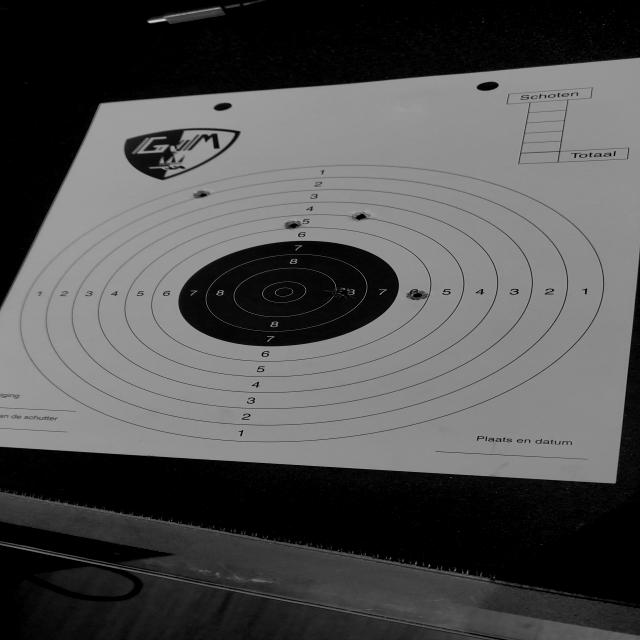2: (191, 190, 213, 200)
5: (347, 211, 377, 223)
6: (406, 289, 430, 301), (282, 220, 306, 230)
9: (324, 287, 356, 299)
Target: (19, 164, 606, 444)
black_contour: (178, 240, 401, 348)
